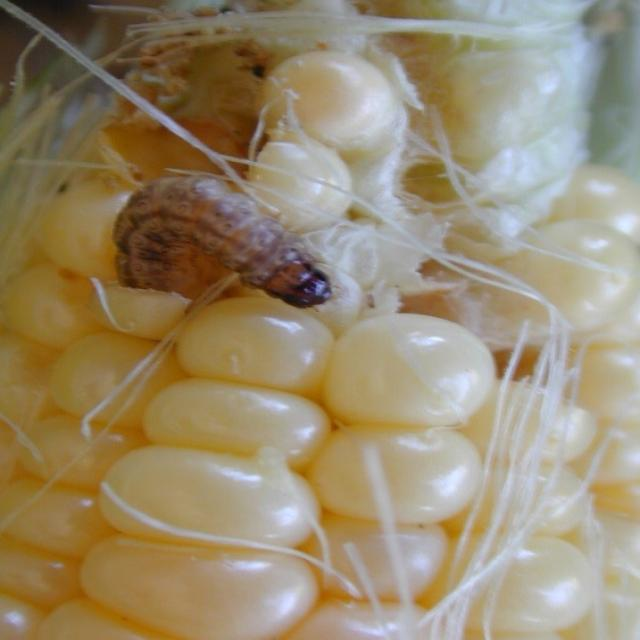Corn-earworm: (105, 162, 345, 317)
